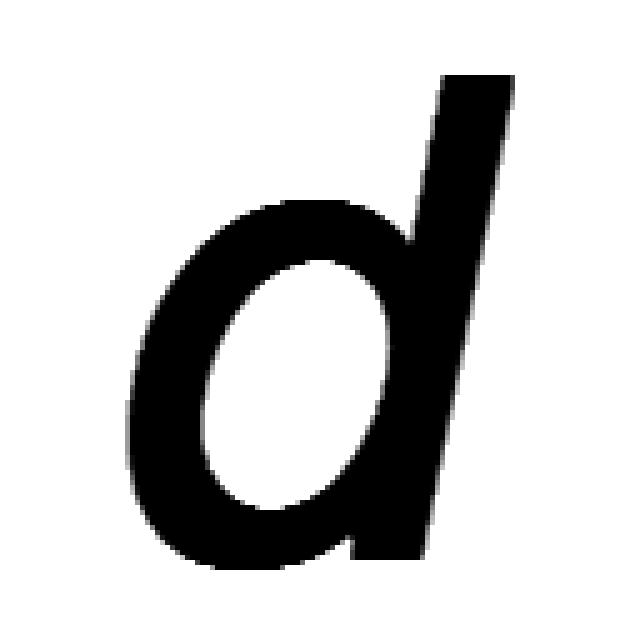D: (120, 65, 520, 575)
